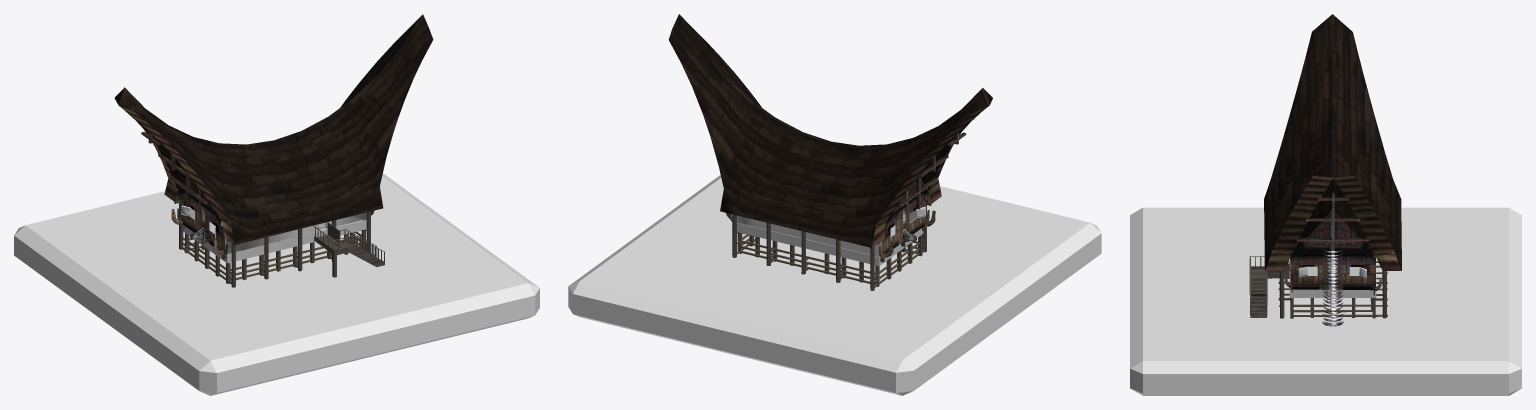
Rendered from MINI_TORAJA.fbx.
3 views of the same model, side by side, from view 1: azimuth 30°, elevation 25°; view 2: azimuth 150°, elevation 25°; view 3: azimuth 270°, elevation 25° (orthographic). The views are drawn at different scales.
Parts seen in each view (by area): view 1: Plane.002, Toraja1; view 2: Plane.002, Toraja1; view 3: Plane.002, Toraja1.
Part boxes in pixels (box(x1,y1,x2,y2)): Plane.002: box(14, 173, 539, 395); Toraja1: box(114, 14, 433, 287); Plane.002: box(568, 175, 1101, 395); Toraja1: box(668, 14, 992, 290); Plane.002: box(1130, 207, 1521, 395); Toraja1: box(1249, 14, 1401, 326).
Size of the model in its own units: 227 by 150 by 228.
